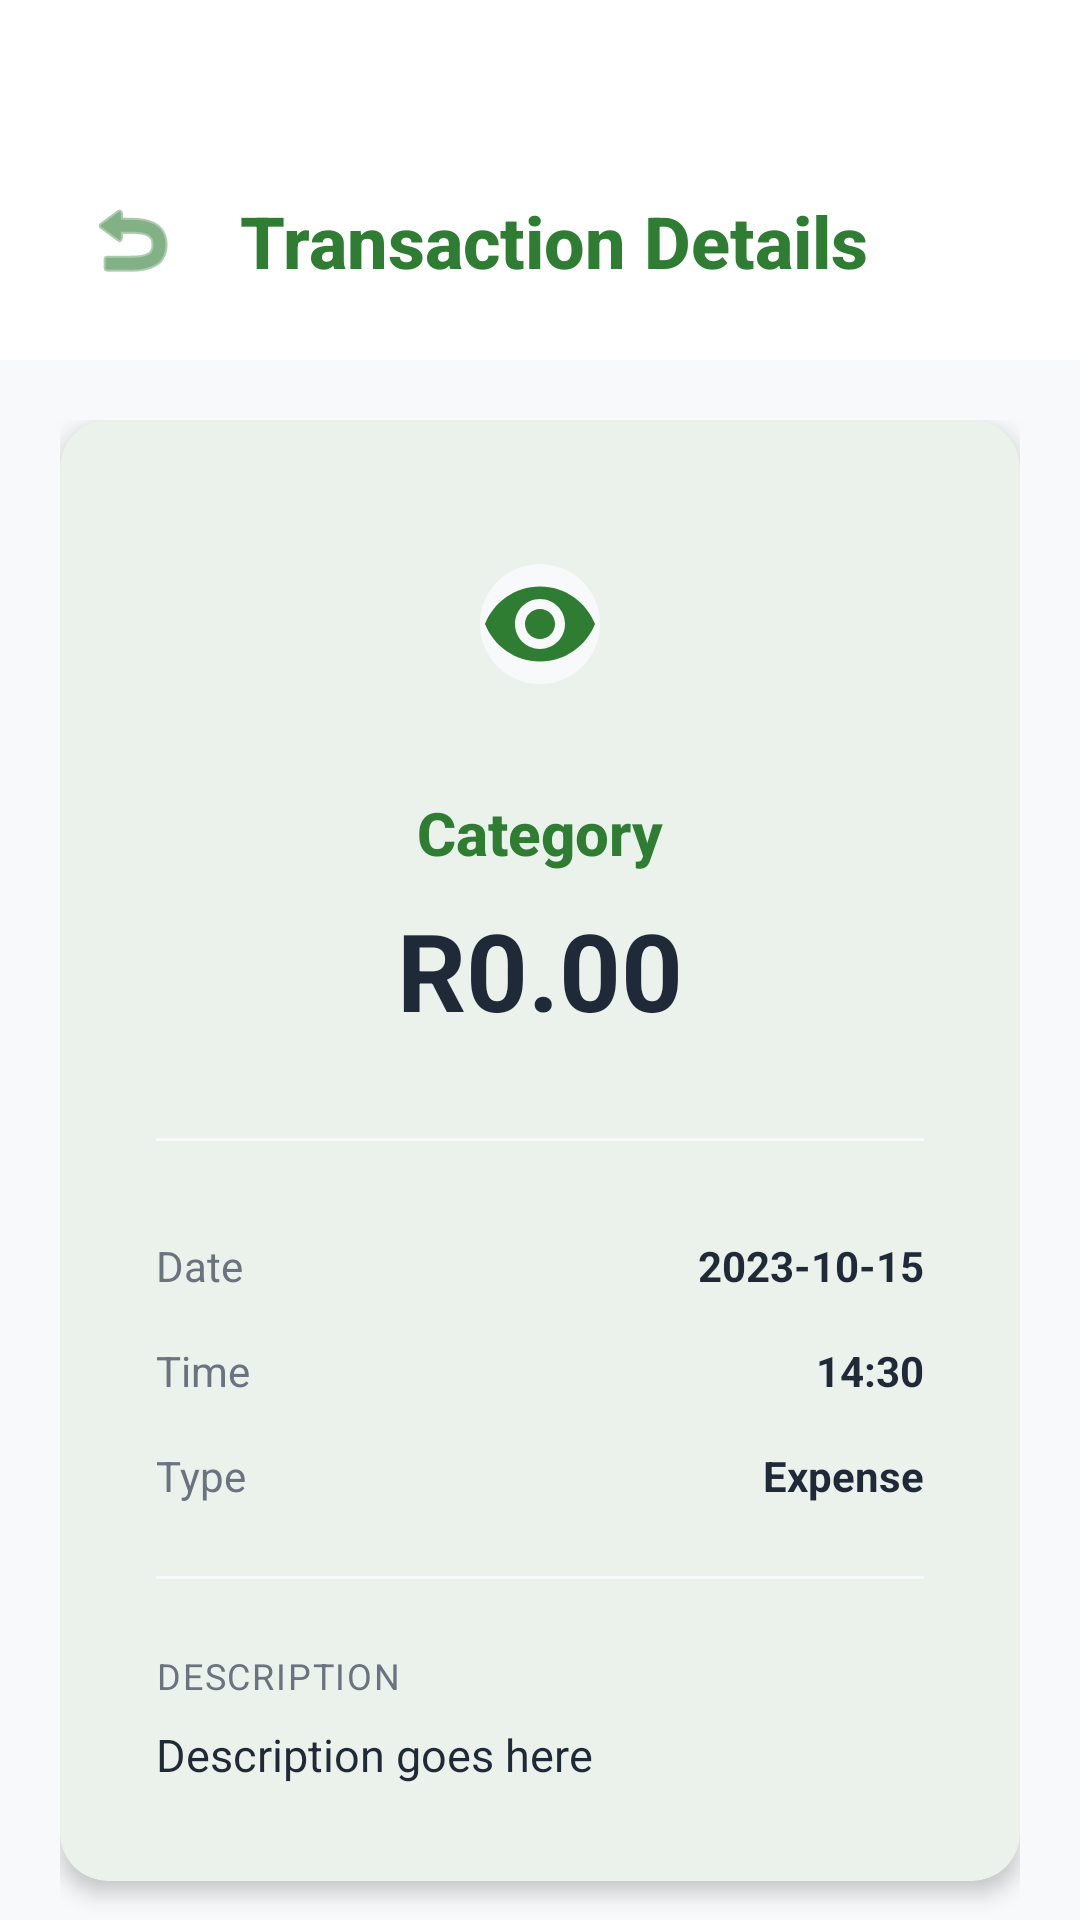

Named icons in this screenshot (1080px×1920px) and their bounding boxes, (x1, y1, x2, y2):
revert: (99, 209, 168, 272)
